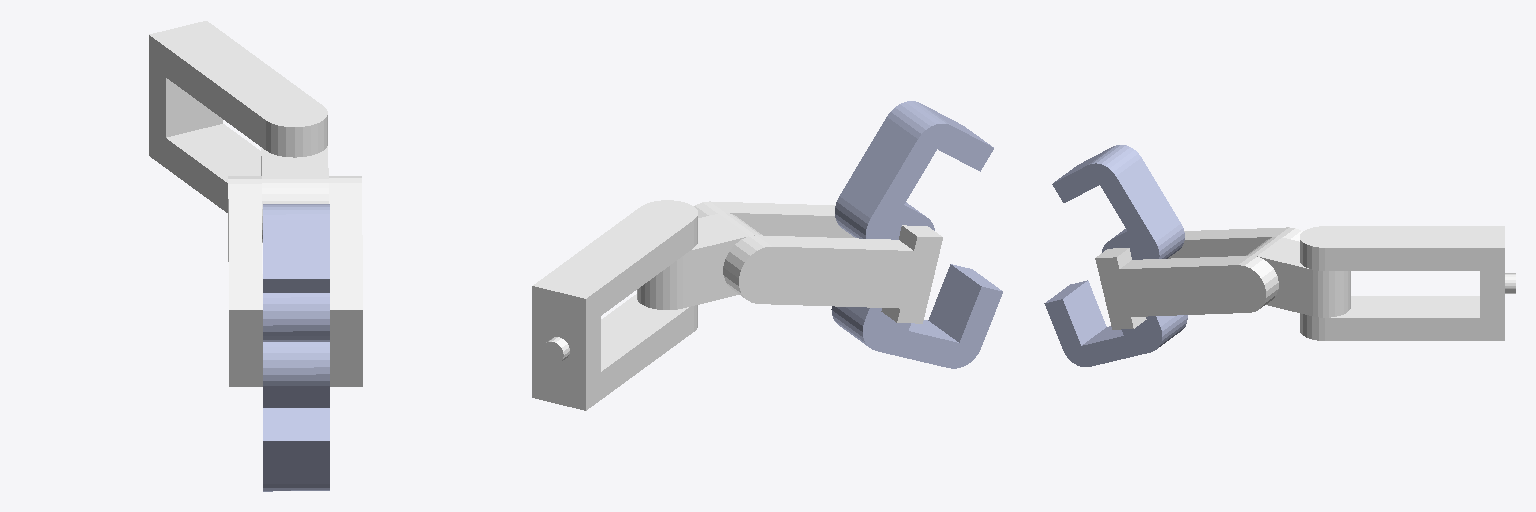
robot.urdf — claw4:
<?xml version="1.0" encoding="utf-8"?>
<!-- This URDF was automatically created by SolidWorks to URDF Exporter! Originally created by Stephen Brawner (brawner@gmail.com) 
     Commit Version: 1.6.0-4-g7f85cfe  Build Version: 1.6.7995.38578
     For more information, please see http://wiki.ros.org/sw_urdf_exporter -->
<robot
  name="claw4">
  <link
    name="P_base_Link">
    <inertial>
      <origin
        xyz="3.46944695195361E-18 -0.201884706657029 5.55111512312578E-17"
        rpy="0 0 0" />
      <mass
        value="6.45985390928753" />
      <inertia
        ixx="0.0832359362669179"
        ixy="3.21490632733514E-19"
        ixz="-5.23970063662459E-19"
        iyy="0.0376630506242884"
        iyz="-4.65601343218524E-18"
        izz="0.0556863824606013" />
    </inertial>
    <visual>
      <origin
        xyz="0 0 0"
        rpy="0 0 0" />
      <geometry>
        <mesh
          filename="../meshes/P_base_link.STL" />
      </geometry>
      <material
        name="">
        <color
          rgba="1 1 1 0.5" />
      </material>
    </visual>
    <collision>
      <origin
        xyz="0 0 0"
        rpy="0 0 0" />
      <geometry>
        <mesh
          filename="../meshes/P_base_link.STL" />
      </geometry>
    </collision>
  </link>
  <link
    name="P_1_Link">
    <inertial>
      <origin
        xyz="-0.0542836886968291 0.0309762996735529 0"
        rpy="0 0 0" />
      <mass
        value="2.29977871437821" />
      <inertia
        ixx="0.00543920164677485"
        ixy="0.00256391491128209"
        ixz="-2.08025418238351E-19"
        iyy="0.00846920852136573"
        iyz="2.22008071708427E-19"
        izz="0.00993227410397423" />
    </inertial>
    <visual>
      <origin
        xyz="0 0 0"
        rpy="0 0 0" />
      <geometry>
        <mesh
          filename="../meshes/P_1_Link.STL" />
      </geometry>
      <material
        name="">
        <color
          rgba="1 1 1 0.5" />
      </material>
    </visual>
    <collision>
      <origin
        xyz="0 0 0"
        rpy="0 0 0" />
      <geometry>
        <mesh
          filename="../meshes/P_1_Link.STL" />
      </geometry>
    </collision>
  </link>
  <joint
    name="P_base_to_1_Link"
    type="revolute">
    <origin
      xyz="0 -0.37 0"
      rpy="0 0 1.5707963267949" />
    <parent
      link="P_base_Link" />
    <child
      link="P_1_Link" />
    <axis
      xyz="0 0 1" />
    <limit
      lower="-3.14"
      upper="3.14"
      effort="20000000000000000000"
      velocity="100" />
  </joint>
  <link
    name="P_2_Link">
    <inertial>
      <origin
        xyz="0.156837405573848 0.0261395675956407 3.33066907387547E-16"
        rpy="0 0 0" />
      <mass
        value="6.27444678594554" />
      <inertia
        ixx="0.0415576369787408"
        ixy="-0.0123362492996852"
        ixz="-9.4953274131727E-17"
        iyy="0.113519091226907"
        iyz="-2.37703196546275E-17"
        izz="0.0901215297519563" />
    </inertial>
    <visual>
      <origin
        xyz="0 0 0"
        rpy="0 0 0" />
      <geometry>
        <mesh
          filename="../meshes/P_2_link.STL" />
      </geometry>
      <material
        name="">
        <color
          rgba="1 1 1 0.5" />
      </material>
    </visual>
    <collision>
      <origin
        xyz="0 0 0"
        rpy="0 0 0" />
      <geometry>
        <mesh
          filename="../meshes/P_2_link.STL" />
      </geometry>
    </collision>
  </link>
  <joint
    name="P_1_to_2_Link"
    type="revolute">
    <origin
      xyz="-0.108567377393659 0.0619525993471068 0"
      rpy="1.5707963267949 0.424096013038806 2.62304321010161" />
    <parent
      link="P_1_Link" />
    <child
      link="P_2_Link" />
    <axis
      xyz="0 0 -1" />
    <limit
      lower="-3.14"
      upper="3.14"
      effort="200000000000000000"
      velocity="100" />
  </joint>
  <link
    name="P_left_Link">
    <inertial>
      <origin
        xyz="0.0500938789764336 -0.0679424404857929 -5.41233724504764E-16"
        rpy="0 0 0" />
      <mass
        value="2.8207521601036" />
      <inertia
        ixx="0.0191710485441626"
        ixy="0.00153322676571959"
        ixz="2.36123447589962E-17"
        iyy="0.00703813968581308"
        iyz="-1.6964107612314E-17"
        izz="0.021507934629803" />
    </inertial>
    <visual>
      <origin
        xyz="0 0 0"
        rpy="0 0 0" />
      <geometry>
        <mesh
          filename="../meshes/P_left_Link.STL" />
      </geometry>
      <material
        name="">
        <color
          rgba="0.792156862745098 0.819607843137255 0.933333333333333 1" />
      </material>
    </visual>
    <collision>
      <origin
        xyz="0 0 0"
        rpy="0 0 0" />
      <geometry>
        <mesh
          filename="../meshes/P_left_Link.STL" />
      </geometry>
    </collision>
  </link>
  <joint
    name="P_2_to_left_Link"
    type="revolute">
    <origin
      xyz="0.304138126514913 0 0"
      rpy="-3.14159265358979 0 -1.40564764938028" />
    <parent
      link="P_2_Link" />
    <child
      link="P_left_Link" />
    <axis
      xyz="0 0 -1" />
    <limit
      lower="-3.14"
      upper="3.14"
      effort="20000000000000000"
      velocity="100" />
  </joint>
  <link
    name="P_right_Link">
    <inertial>
      <origin
        xyz="-0.0840758119715021 -0.0075385523413784 -8.60422844084496E-16"
        rpy="0 0 0" />
      <mass
        value="2.8207521601036" />
      <inertia
        ixx="0.00894794126341108"
        ixy="0.00467706005176882"
        ixz="-1.31413525848784E-16"
        iyy="0.0172612469665647"
        iyz="4.86972912141152E-17"
        izz="0.0215079346298031" />
    </inertial>
    <visual>
      <origin
        xyz="0 0 0"
        rpy="0 0 0" />
      <geometry>
        <mesh
          filename="../meshes/P_right_Link.STL" />
      </geometry>
      <material
        name="">
        <color
          rgba="0.792156862745098 0.819607843137255 0.933333333333333 1" />
      </material>
    </visual>
    <collision>
      <origin
        xyz="0 0 0"
        rpy="0 0 0" />
      <geometry>
        <mesh
          filename="../meshes/P_right_Link.STL" />
      </geometry>
    </collision>
  </link>
  <joint
    name="P_2_to_right_Link"
    type="revolute">
    <origin
      xyz="0.287698227784378 0.0986393923832146 0"
      rpy="0 0 -1.40564764938028" />
    <parent
      link="P_2_Link" />
    <child
      link="P_right_Link" />
    <axis
      xyz="0 0 -1" />
    <limit
      lower="-3.14"
      upper="3.14"
      effort="20000000000"
      velocity="100" />
  </joint>
</robot>

--- What the picture shows (computed from the rendered views, not written in the file) ---
3 views of the same robot in one strip: view 1: azimuth 30°, elevation 25°; view 2: azimuth 150°, elevation 25°; view 3: azimuth 270°, elevation 25° (orthographic).
Model claw4 with 5 links and 4 joints (4 revolute), rooted at P_base_Link, posed every joint at zero.
Visible links, largest first — view 1: P_base_Link, P_2_Link, P_left_Link, P_right_Link, P_1_Link; view 2: P_base_Link, P_2_Link, P_right_Link, P_left_Link, P_1_Link; view 3: P_base_Link, P_2_Link, P_right_Link, P_left_Link, P_1_Link.
Link boxes in pixels (x1,y1,x2,y2): P_base_Link: (149, 21, 327, 212); P_2_Link: (228, 176, 362, 386); P_left_Link: (263, 342, 329, 491); P_right_Link: (263, 204, 329, 341); P_1_Link: (261, 146, 328, 242); P_base_Link: (532, 200, 697, 410); P_2_Link: (694, 201, 942, 323); P_right_Link: (835, 101, 993, 239); P_left_Link: (831, 264, 1002, 368); P_1_Link: (637, 213, 761, 309); P_base_Link: (1300, 226, 1515, 340); P_2_Link: (1095, 227, 1302, 329); P_right_Link: (1052, 145, 1184, 259); P_left_Link: (1044, 280, 1187, 366); P_1_Link: (1246, 237, 1350, 317).
Size in the robot's own frame: 0.3909 by 0.9161 by 0.4451 metres.
5 mesh visuals loaded from 5 distinct referenced files (5 binary STL).
